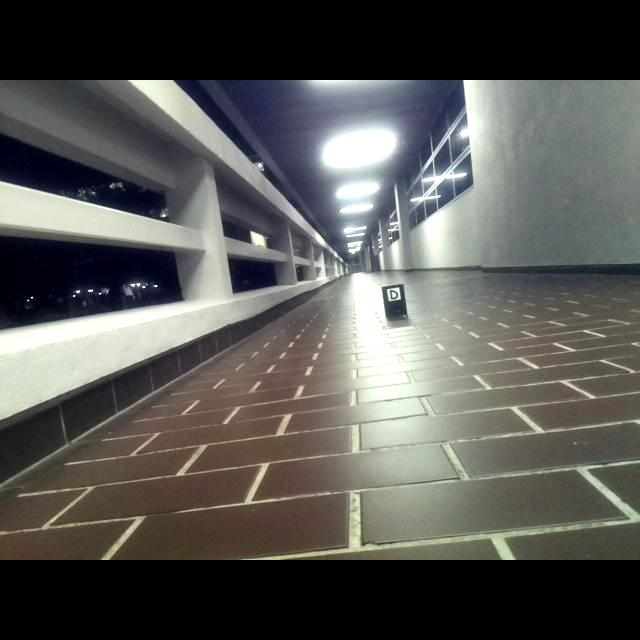D: (389, 290, 400, 301)
